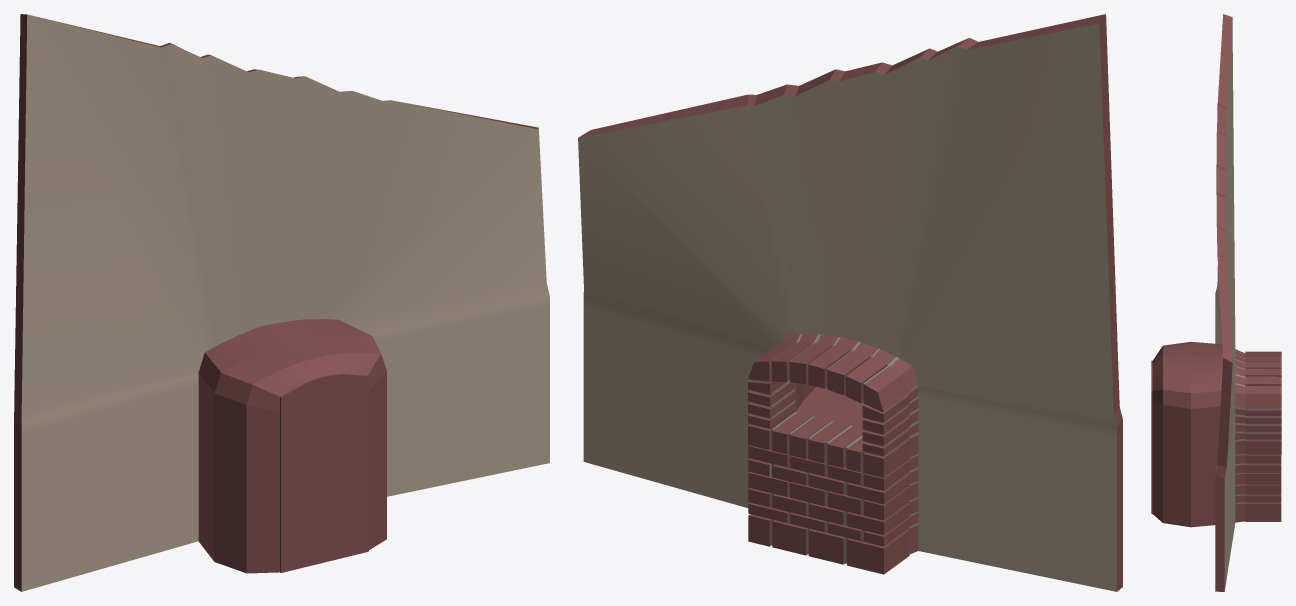
File: StoneOven.fbx
The picture shows the model from 3 angles, left to right: view 1: azimuth 30°, elevation 25°; view 2: azimuth 150°, elevation 25°; view 3: azimuth 270°, elevation 25°; orthographic projection. The views are drawn at different scales.
Visible parts, largest first — view 1: StoneOvenWall; view 2: StoneOvenWall; view 3: StoneOvenWall.
Boxes of the visible parts, x1,y1,x2,y2 form: StoneOvenWall: (14,14,549,591); StoneOvenWall: (578,14,1122,591); StoneOvenWall: (1151,14,1281,591).
Bounding box in the file's own units: 18.83 × 19.37 × 5.71.
